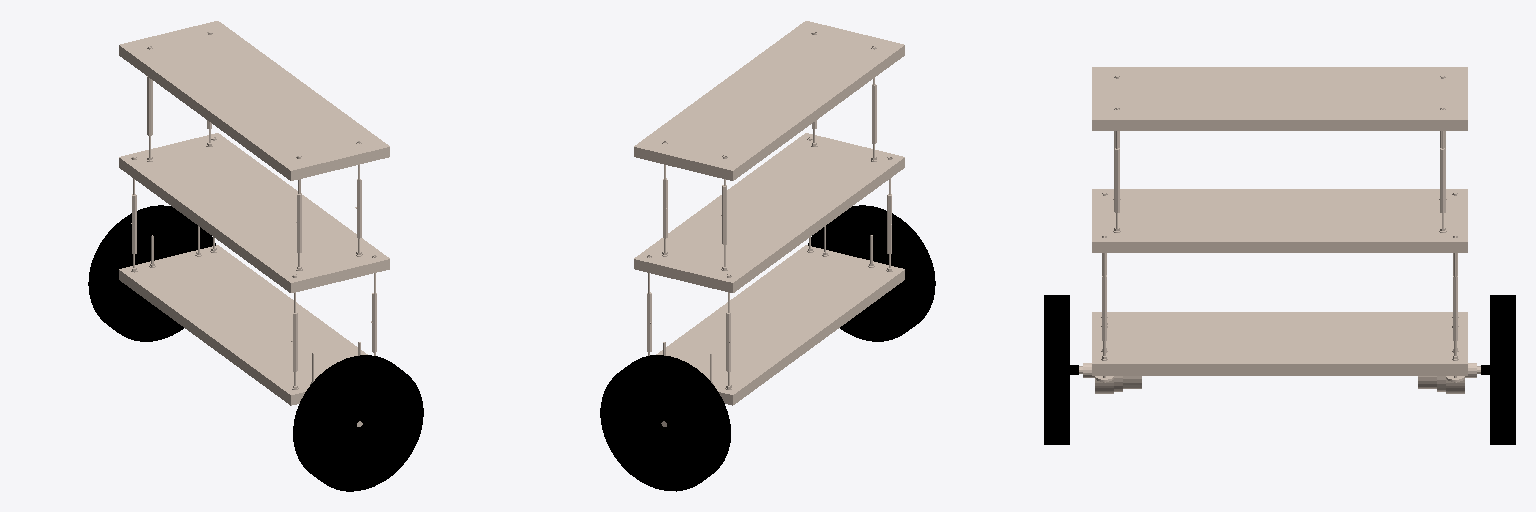
robot.urdf — selbie:
<?xml version="1.0" ?>
<!-- =================================================================================== -->
<!-- |    This document was autogenerated by xacro from selbie.xacro                   | -->
<!-- |    EDITING THIS FILE BY HAND IS NOT RECOMMENDED                                 | -->
<!-- =================================================================================== -->
<robot name="selbie" xmlns:xacro="http://www.ros.org/wiki/xacro">
  <!-- ros_control plugin -->
  <gazebo>
    <plugin filename="libgazebo_ros_control.so" name="gazebo_ros_control">
      <robotNamespace>/selbie</robotNamespace>
      <robotSimType>gazebo_ros_control/DefaultRobotHWSim</robotSimType>
    </plugin>
  </gazebo>
  <!-- Link1 -->
  <gazebo reference="selbie_body">
    <material>Gazebo/Blue</material>
  </gazebo>
  <!-- Link2 -->
  <gazebo reference="selbie_leftWheel">
    <mu1>0.2</mu1>
    <mu2>0.2</mu2>
    <material>Gazebo/Black</material>
  </gazebo>
  <!-- Link3 -->
  <gazebo reference="selbie_rightWheel">
    <mu1>0.2</mu1>
    <mu2>0.2</mu2>
    <material>Gazebo/Black</material>
  </gazebo>
  <material name="black">
    <color rgba="0.0 0.0 0.0 1.0"/>
  </material>
  <material name="blue">
    <color rgba="0.0 0.0 0.8 1.0"/>
  </material>
  <material name="green">
    <color rgba="0.0 0.8 0.0 1.0"/>
  </material>
  <material name="grey">
    <color rgba="0.2 0.2 0.2 1.0"/>
  </material>
  <material name="orange">
    <color rgba="1.0 0.423529411765 0.0392156862745 1.0"/>
  </material>
  <material name="brown">
    <color rgba="0.870588235294 0.811764705882 0.764705882353 1.0"/>
  </material>
  <material name="red">
    <color rgba="0.8 0.0 0.0 1.0"/>
  </material>
  <material name="white">
    <color rgba="1.0 1.0 1.0 1.0"/>
  </material>
  <link name="selbie_body">
    <inertial>
      <origin rpy="0 0 0" xyz="0.14214 0.1369 0.15867"/>
      <mass value="1.0483"/>
      <inertia ixx="0.022239" ixy="4.5674E-09" ixz="-5.291E-05" iyy="0.0084815" iyz="4.6465E-06" izz="0.014724"/>
    </inertial>
    <visual>
      <origin rpy="0 0 0" xyz="0 0 0"/>
      <geometry>
        <mesh filename="package://selbie/meshes/selbie.STL"/>
      </geometry>
      <material name="brown">
        <texture filename="package://selbie/textures/polished cherry.jpg"/>
      </material>
    </visual>
    <collision>
      <origin rpy="0 0 0" xyz="0 0 0"/>
      <geometry>
        <mesh filename="package://selbie/meshes/selbie.STL"/>
      </geometry>
    </collision>
  </link>
  <link name="selbie_rightWheel">
    <inertial>
      <origin rpy="0 0 0" xyz="8.582E-12 4.0312E-12 -0.017408"/>
      <mass value="0.043417"/>
      <inertia ixx="1.8225E-05" ixy="4.3753E-15" ixz="5.3517E-15" iyy="1.8225E-05" iyz="2.3697E-15" izz="3.4618E-05"/>
    </inertial>
    <visual>
      <origin rpy="0 0 0" xyz="0 0 0"/>
      <geometry>
        <mesh filename="package://selbie/meshes/selbie_rightWheel.STL"/>
      </geometry>
      <material name="black">
        <texture filename="package://selbie/textures/marble4.jpg"/>
      </material>
    </visual>
    <collision>
      <origin rpy="0 0 0" xyz="0 0 0"/>
      <geometry>
        <mesh filename="package://selbie/meshes/selbie_rightWheel.STL"/>
      </geometry>
    </collision>
  </link>
  <joint name="selbie_rj" type="continuous">
    <origin rpy="1.5708 1.2131 3.1416" xyz="0.14286 -0.023601 0.097857"/>
    <parent link="selbie_body"/>
    <child link="selbie_rightWheel"/>
    <axis xyz="0 0 -1"/>
  </joint>
  <link name="selbie_leftWheel">
    <inertial>
      <origin rpy="0 0 0" xyz="8.582E-12 4.0312E-12 -0.017408"/>
      <mass value="0.043417"/>
      <inertia ixx="1.8225E-05" ixy="4.3753E-15" ixz="5.3517E-15" iyy="1.8225E-05" iyz="2.3697E-15" izz="3.4618E-05"/>
    </inertial>
    <visual>
      <origin rpy="0 0 0" xyz="0 0 0"/>
      <geometry>
        <mesh filename="package://selbie/meshes/selbie_leftWheel.STL"/>
      </geometry>
      <material name="black">
        <texture filename="package://selbie/textures/marble4.jpg"/>
      </material>
    </visual>
    <collision>
      <origin rpy="0 0 0" xyz="0 0 0"/>
      <geometry>
        <mesh filename="package://selbie/meshes/selbie_leftWheel.STL"/>
      </geometry>
    </collision>
  </link>
  <joint name="selbie_lj" type="continuous">
    <origin rpy="1.5708 0 0" xyz="0.14286 0.2974 0.097857"/>
    <parent link="selbie_body"/>
    <child link="selbie_leftWheel"/>
    <axis xyz="0 0 1"/>
  </joint>
  <transmission name="tran1">
    <type>transmission_interface/SimpleTransmission</type>
    <joint name="selbie_rj">
      <hardwareInterface>EffortJointInterface</hardwareInterface>
    </joint>
    <actuator name="motor1">
      <hardwareInterface>EffortJointInterface</hardwareInterface>
      <mechanicalReduction>1</mechanicalReduction>
    </actuator>
  </transmission>
  <transmission name="tran2">
    <type>transmission_interface/SimpleTransmission</type>
    <joint name="selbie_lj">
      <hardwareInterface>EffortJointInterface</hardwareInterface>
    </joint>
    <actuator name="motor2">
      <hardwareInterface>EffortJointInterface</hardwareInterface>
      <mechanicalReduction>1</mechanicalReduction>
    </actuator>
  </transmission>
</robot>

--- Facts derived from the render (not from the file) ---
The picture shows the robot from 3 angles, left to right: view 1: azimuth 30°, elevation 25°; view 2: azimuth 150°, elevation 25°; view 3: azimuth 270°, elevation 25°; orthographic projection.
Model selbie with 3 links and 2 joints (2 continuous), rooted at selbie_body, posed every joint at zero.
Links seen in each view (by area): view 1: selbie_body, selbie_rightWheel, selbie_leftWheel; view 2: selbie_body, selbie_leftWheel, selbie_rightWheel; view 3: selbie_body, selbie_rightWheel, selbie_leftWheel.
Boxes of the visible links, <box> form: selbie_body: <box>119,21,389,426</box>; selbie_rightWheel: <box>293,355,423,491</box>; selbie_leftWheel: <box>88,205,215,341</box>; selbie_body: <box>634,21,904,426</box>; selbie_leftWheel: <box>600,355,730,491</box>; selbie_rightWheel: <box>808,205,935,341</box>; selbie_body: <box>1079,67,1480,393</box>; selbie_rightWheel: <box>1044,295,1078,444</box>; selbie_leftWheel: <box>1481,295,1515,444</box>.
Size in the robot's own frame: 0.12 by 0.376 by 0.3046 metres.
Meshes: 3 distinct files referenced, 3 mesh visuals loaded (3 binary STL).
